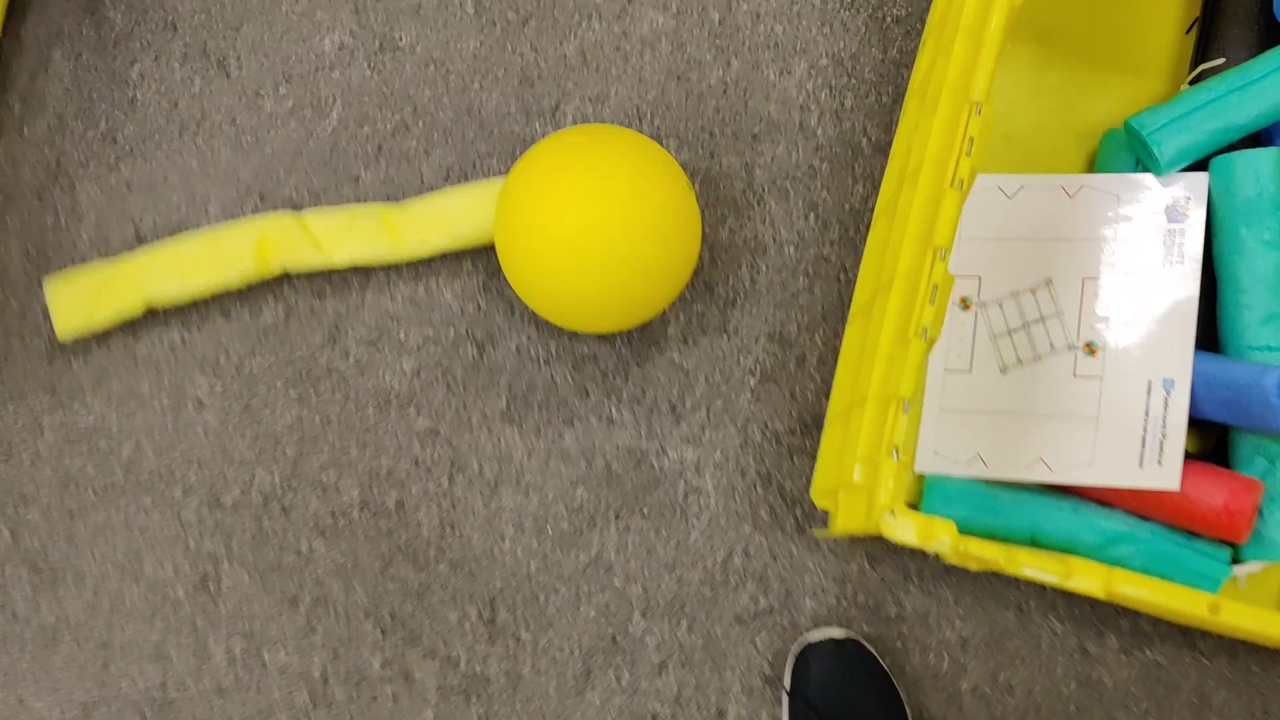Ball: (495, 124, 702, 340)
